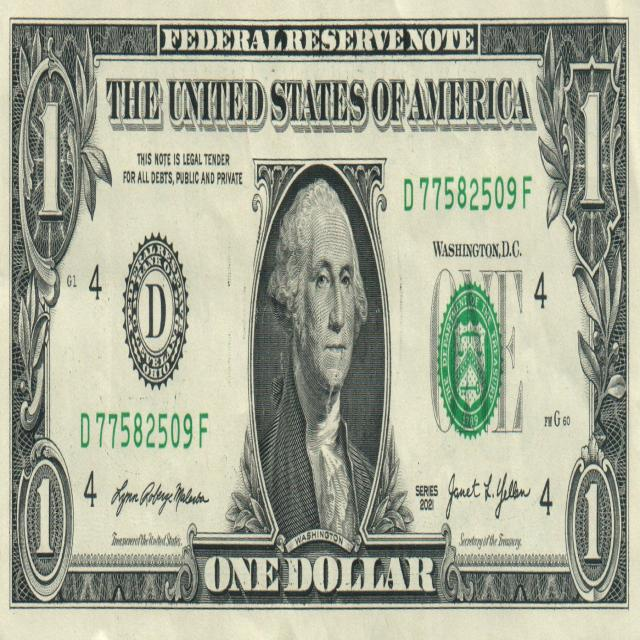SerialNumber: (81, 412, 208, 449), (404, 176, 531, 211)
